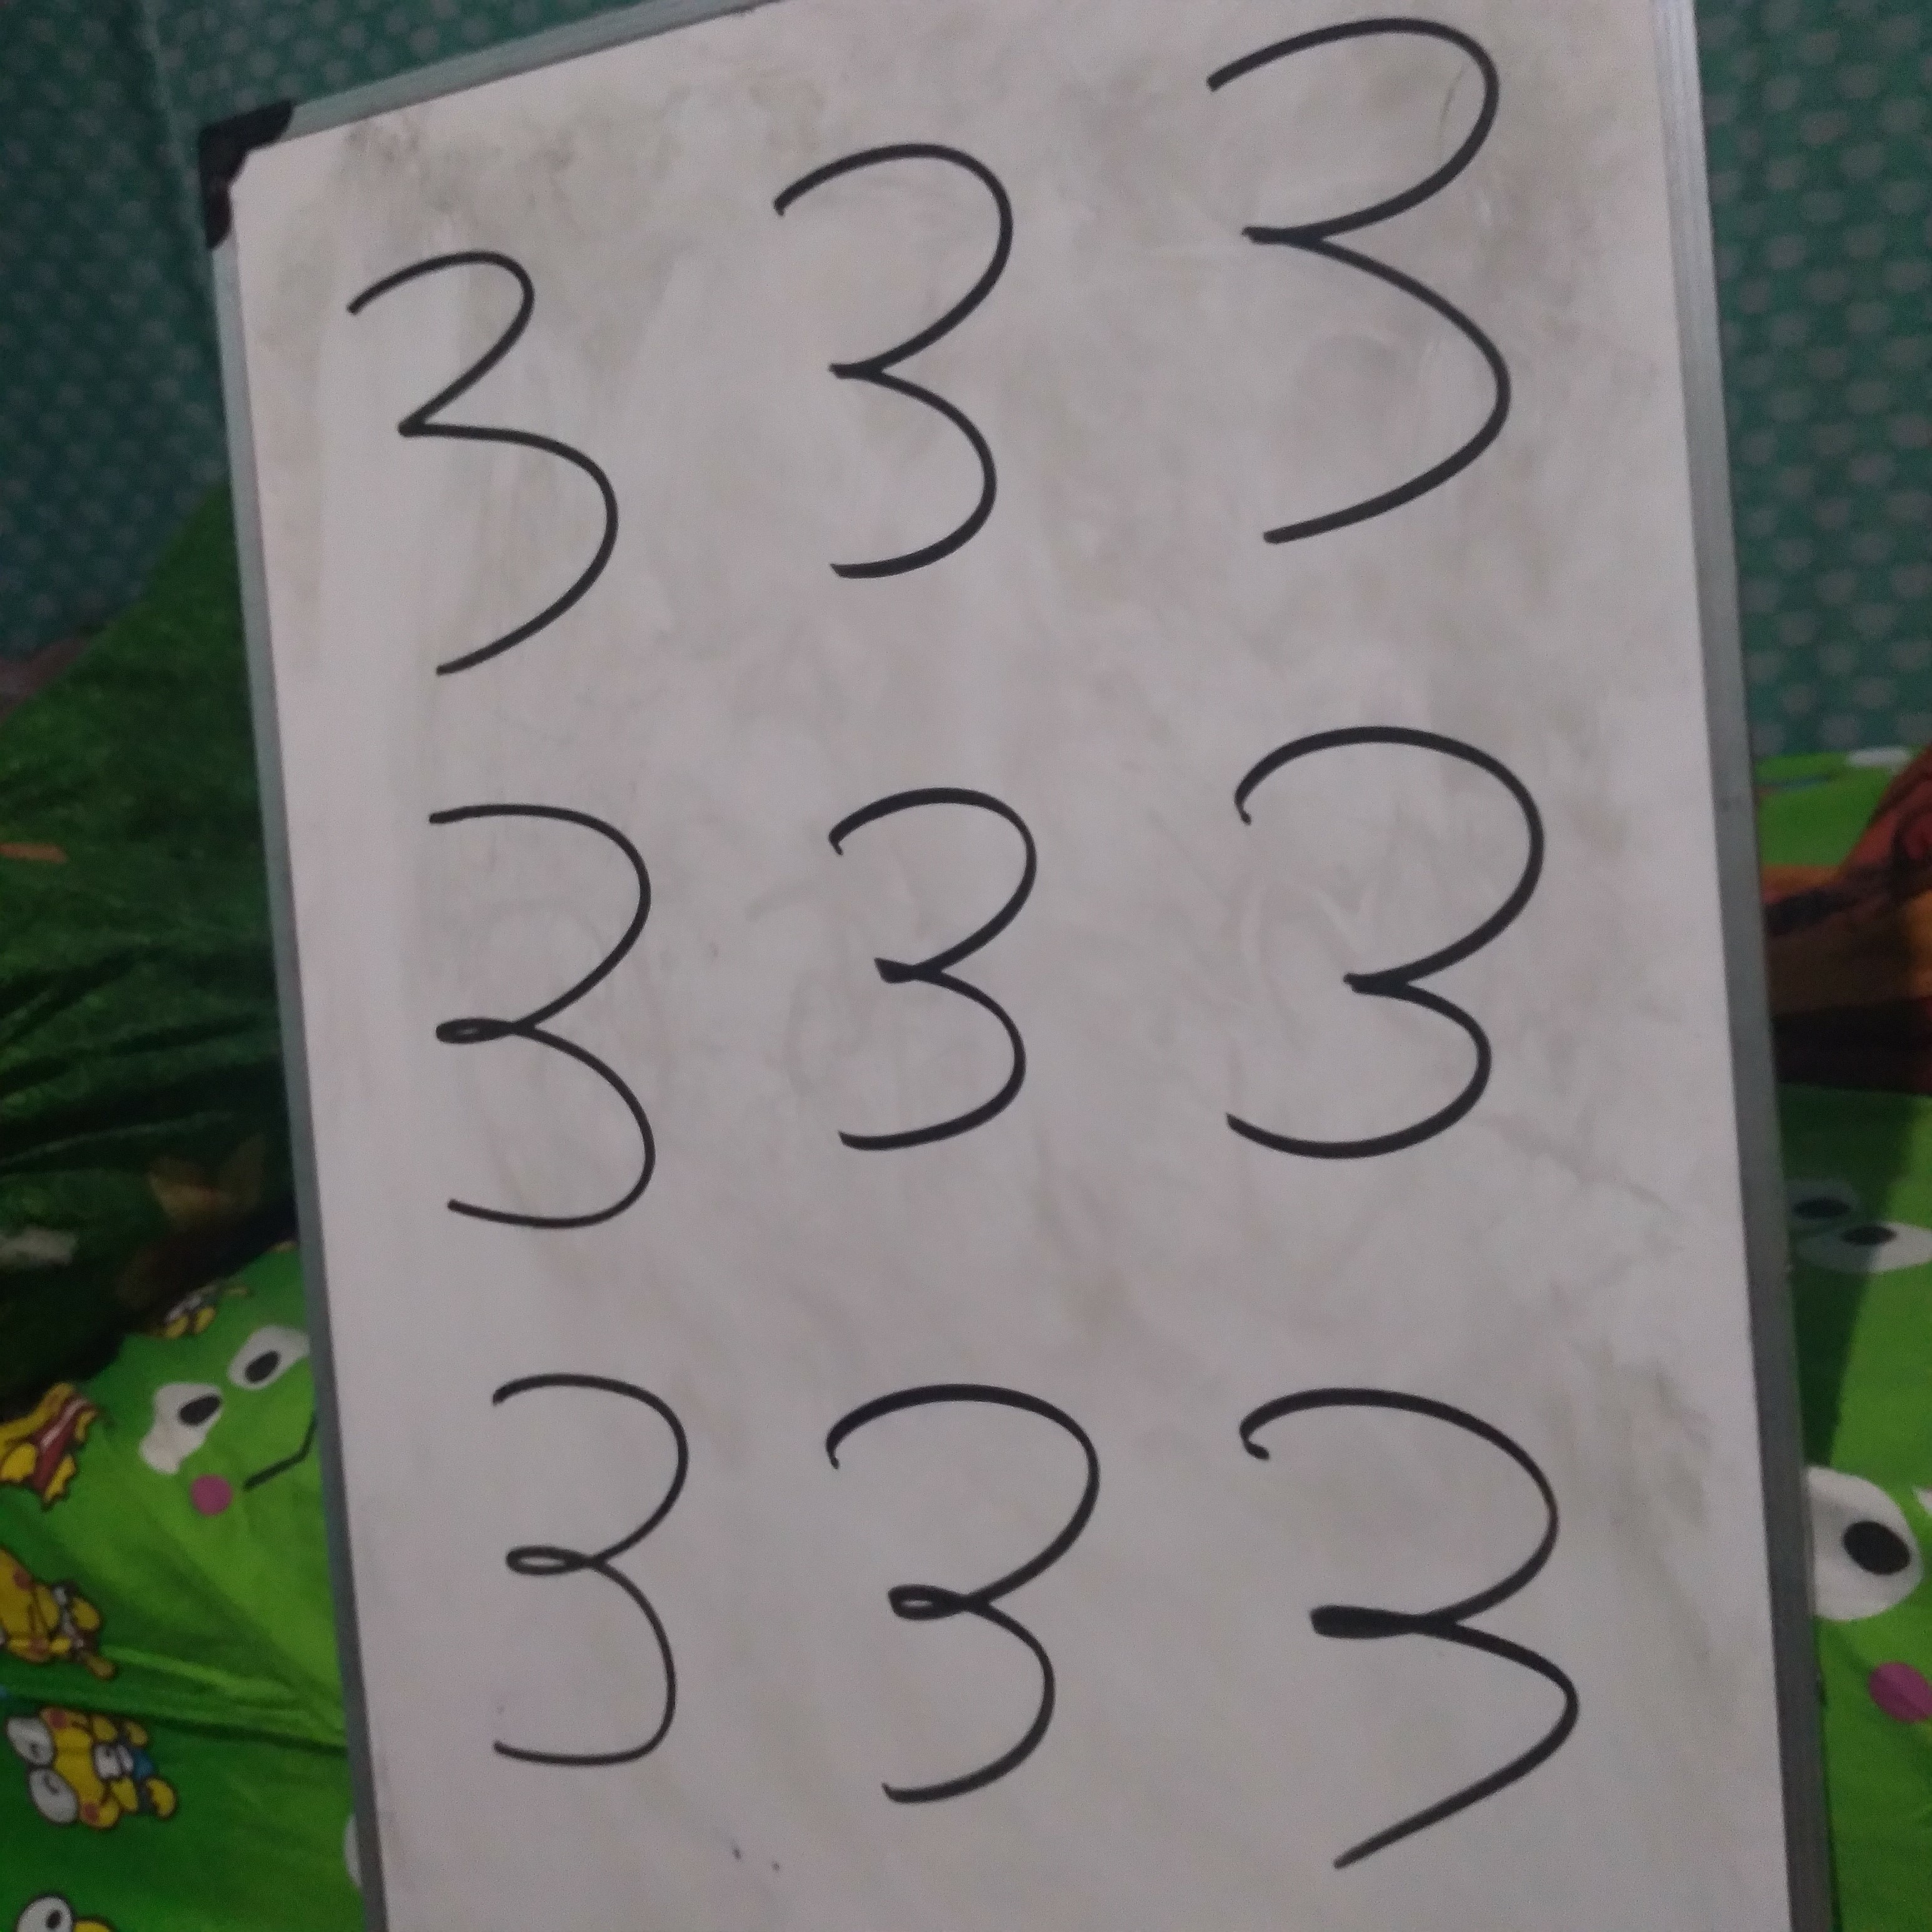num3: (1161, 1, 1538, 604), (1197, 635, 1574, 1239), (1226, 1304, 1603, 1908), (327, 226, 698, 693), (734, 108, 1105, 575), (736, 743, 1107, 1210), (421, 1346, 792, 1813), (379, 772, 750, 1239), (751, 1360, 1122, 1826)
